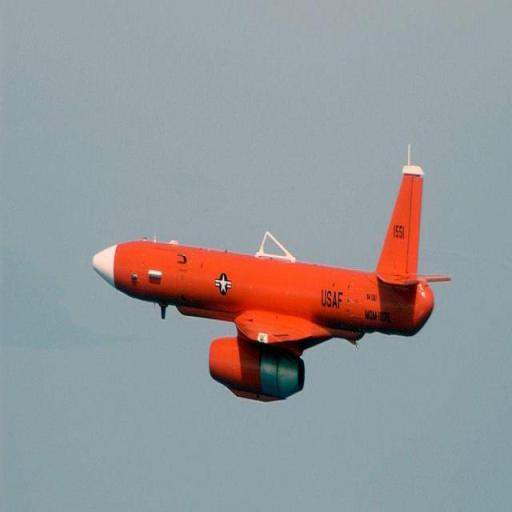uav: (84, 140, 456, 408)
